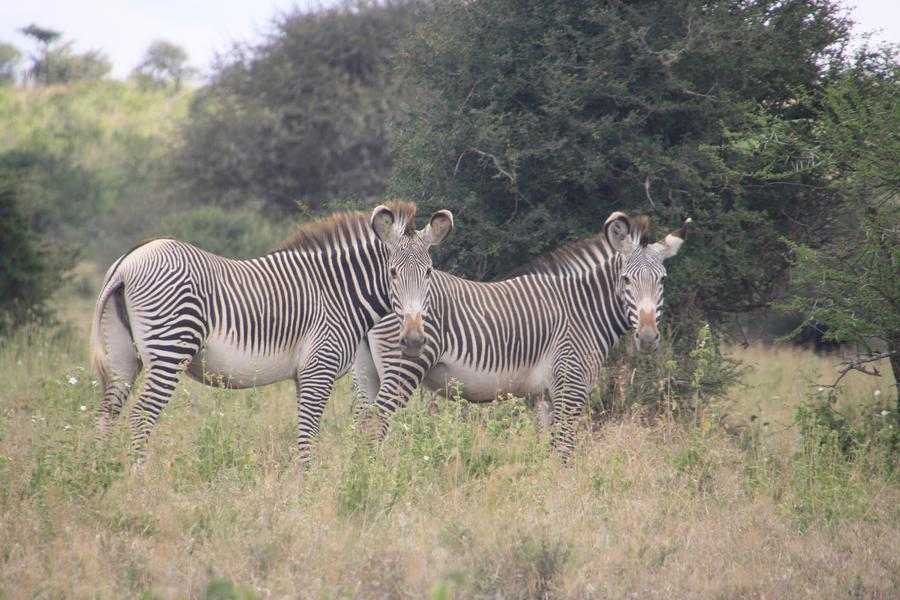zebra_grevys: (109, 229, 338, 374), (440, 255, 599, 383)
